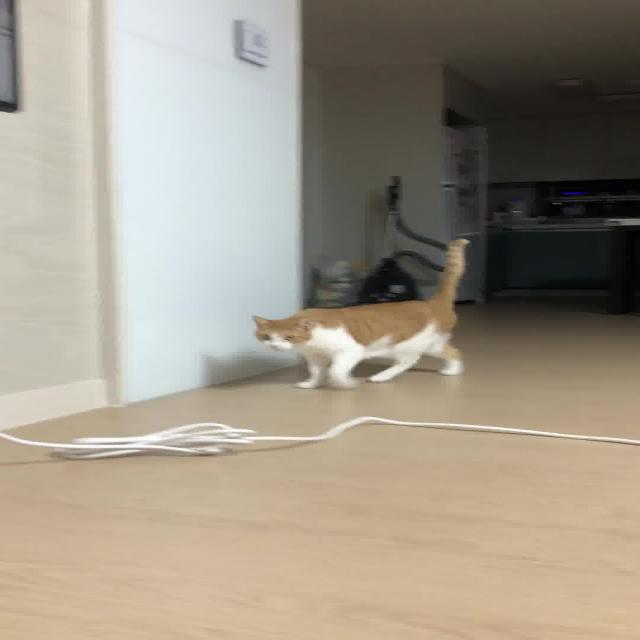cat: (249, 231, 468, 394)
